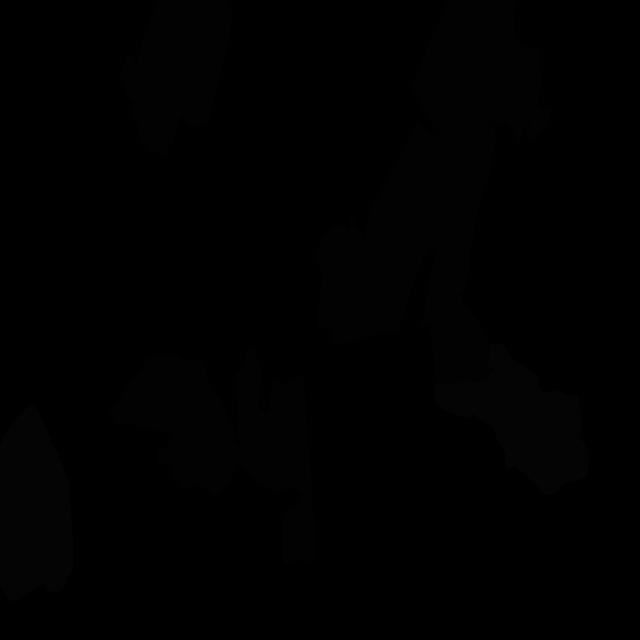cardboard: (364, 115, 496, 294), (411, 0, 550, 144), (109, 355, 242, 501), (119, 0, 232, 157), (235, 346, 316, 564), (316, 217, 424, 347), (418, 271, 490, 384)
soft_plastic: (434, 343, 590, 495), (0, 404, 74, 601)
